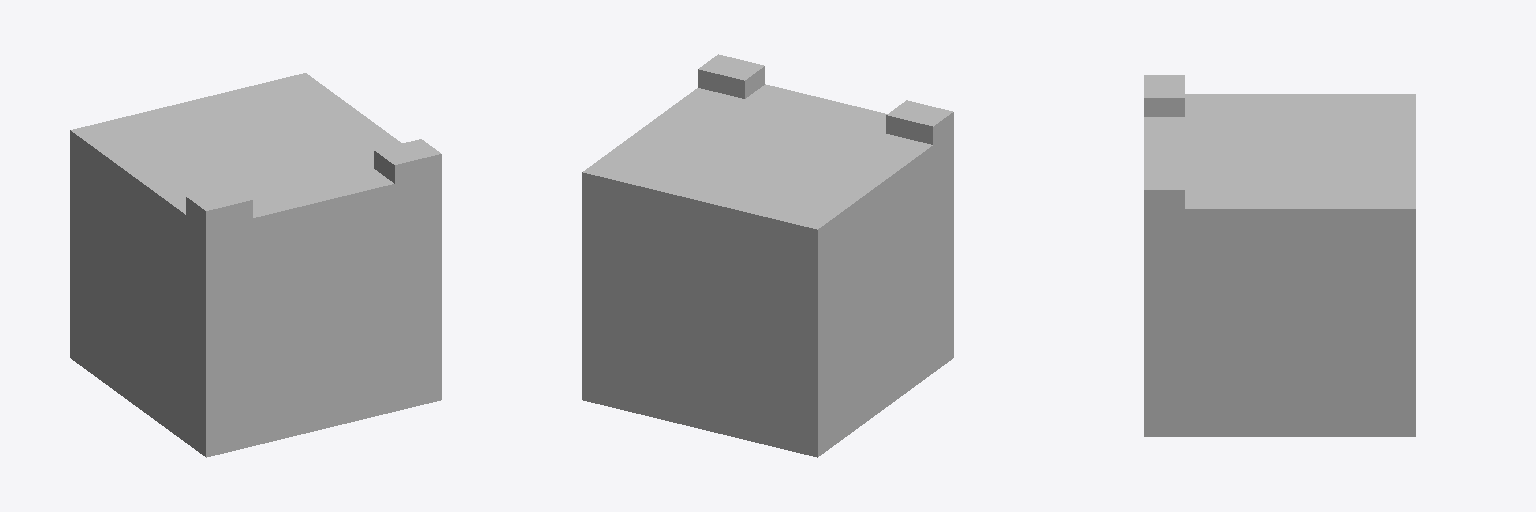
File: bear.obj
3 views of the same model, side by side, from view 1: azimuth 30°, elevation 25°; view 2: azimuth 150°, elevation 25°; view 3: azimuth 270°, elevation 25° (orthographic).
Visible parts, largest first — view 1: object 1; view 2: object 1; view 3: object 1.
Part boxes in pixels (x1,y1,x2,y2): object 1: (70, 73, 441, 457); object 1: (582, 54, 953, 457); object 1: (1144, 75, 1415, 436).
Size of the model in its own units: 4 by 4 by 4.